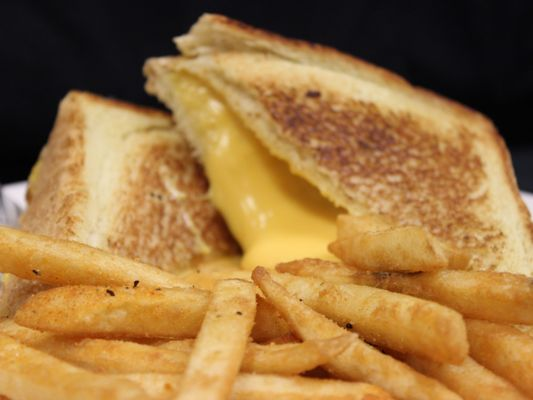soup: (8, 9, 533, 398), (127, 14, 532, 323)
